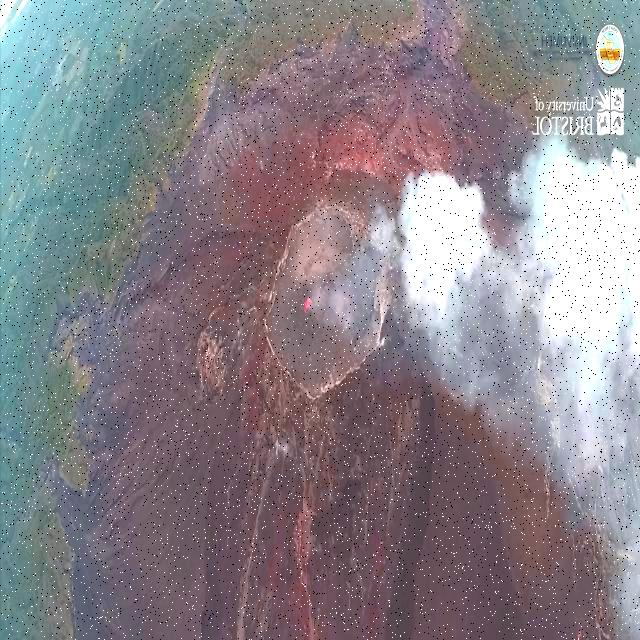Plume: (405, 123, 639, 530)
Summit: (255, 176, 398, 422)
